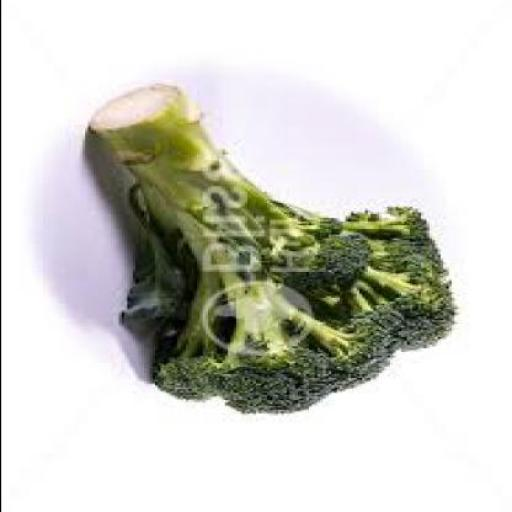biodegradable: (87, 85, 458, 417)
